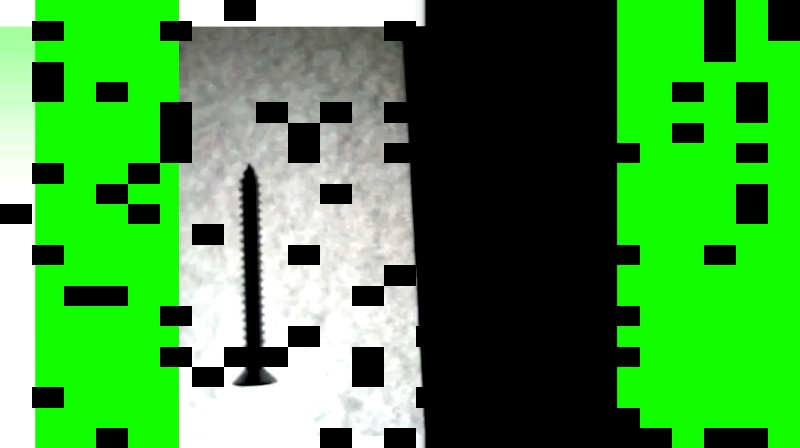S002: (224, 159, 279, 389)
